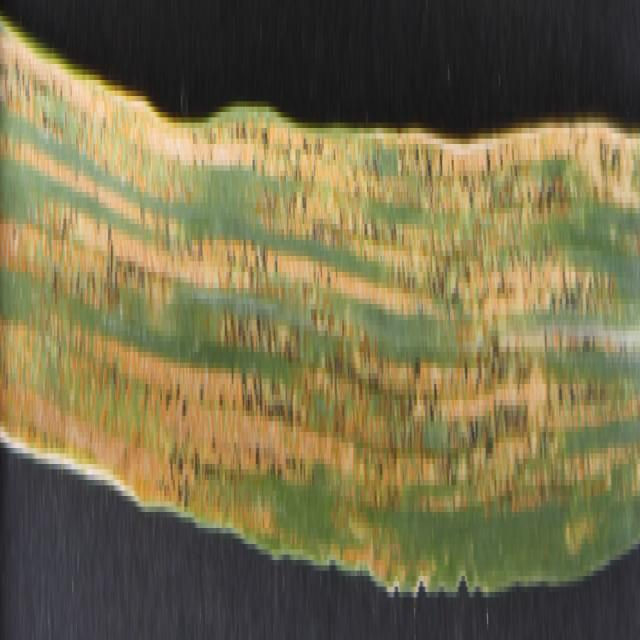leaf rust: (1, 5, 638, 555)
